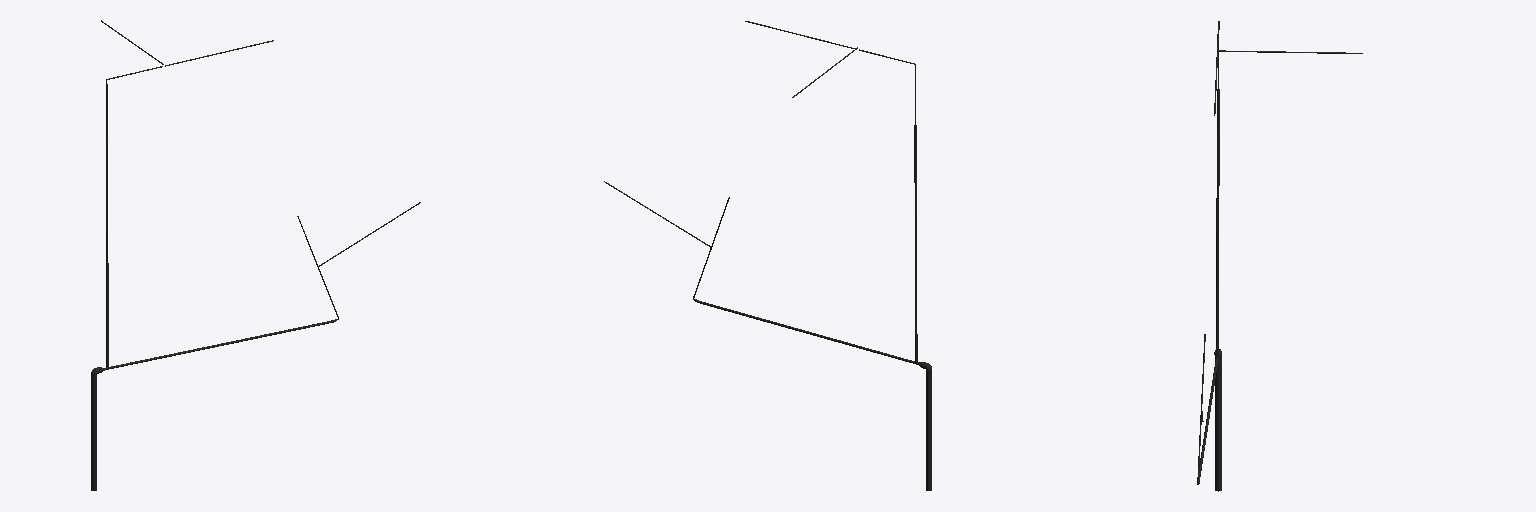
--- What the picture shows (computed from the rendered views, not written in the file) ---
3 views of the same robot in one strip: view 1: azimuth 30°, elevation 25°; view 2: azimuth 150°, elevation 25°; view 3: azimuth 270°, elevation 25° (orthographic).
Robot: Final_assembly_for_gazebo — 20 links, 19 joints (19 fixed); root link base_link; default pose: all joints at 0.
Links seen in each view (by area): view 1: base_link, link_4, link_5; view 2: base_link, link_4, link_5; view 3: base_link, link_5.
Link boxes in pixels (x1,y1,x2,y2): base_link: [91, 378, 96, 490]; link_4: [110, 320, 333, 368]; link_5: [106, 140, 108, 366]; base_link: [926, 373, 931, 490]; link_4: [698, 301, 913, 362]; link_5: [914, 127, 917, 360]; base_link: [1215, 358, 1221, 491]; link_5: [1216, 92, 1219, 355].
Size in the robot's own frame: 29.89 by 11.43 by 36.2 metres.
Meshes: 20 distinct files referenced, 19 mesh visuals loaded (19 binary STL); not drawn: 1 (reference not matched to a file when rendering).

The robot description file, URDF, robot "Final_assembly_for_gazebo":
<?xml version="1.0" encoding="utf-8"?>
<!-- This URDF was automatically created by SolidWorks to URDF Exporter! Originally created by Stephen Brawner ([email redacted]) 
     Commit Version: 1.6.0-4-g7f85cfe  Build Version: 1.6.7995.38578
     For more information, please see http://wiki.ros.org/sw_urdf_exporter -->
<robot
  name="Final_assembly_for_gazebo">
  <link
    name="base_link">
    <inertial>
      <origin
        xyz="0 -8.88178419700125E-16 5"
        rpy="0 0 0" />
      <mass
        value="227.099449742699" />
      <inertia
        ixx="1899.64927428884"
        ixy="-3.37445951098918E-30"
        ixz="-3.54987407349455E-29"
        iyy="1899.64927428884"
        iyz="-6.93984196648275E-29"
        izz="14.3077195326896" />
    </inertial>
    <visual>
      <origin
        xyz="0 0 0"
        rpy="0 0 0" />
      <geometry>
        <mesh
          filename="package://swimming_robot/world/meshes/base_link.STL" />
      </geometry>
      <material
        name="">
        <color
          rgba="0.2 0.2 0.2 0.1" />
      </material>
    </visual>
    <collision>
      <origin
        xyz="0 0 0"
        rpy="0 0 0" />
      <geometry>
        <mesh
          filename="package://swimming_robot/world/meshes/base_link_collision.STL" />
      </geometry>
    </collision>
  </link>
  <link
    name="link_1">
    <inertial>
      <origin
        xyz="0.110325131087151 -0.00712335240271322 0.391445141676856"
        rpy="0 0 0" />
      <mass
        value="10.156846659006" />
      <inertia
        ixx="0.79819759046928"
        ixy="0.0102997348580349"
        ixz="-0.155751894718721"
        iyy="0.957052908615804"
        iyz="0.0100564179941513"
        izz="0.79753256845368" />
    </inertial>
    <visual>
      <origin
        xyz="0 0 0"
        rpy="0 0 0" />
      <geometry>
        <mesh
          filename="package://swimming_robot/world/meshes/link_1.STL" />
      </geometry>
      <material
        name="">
        <color
          rgba="0.2 0.2 0.2 0.1" />
      </material>
    </visual>
    <collision>
      <origin
        xyz="0 0 0"
        rpy="0 0 0" />
      <geometry>
        <mesh
          filename="package://swimming_robot/world/meshes/link_1_collision.STL" />
      </geometry>
    </collision>
  </link>
  <joint
    name="500_turn"
    type="fixed">
    <origin
      xyz="0 0 10"
      rpy="0 0 0" />
    <parent
      link="base_link" />
    <child
      link="link_1" />
    <axis
      xyz="0 0 0" />
  </joint>
  <link
    name="link_2">
    <inertial>
      <origin
        xyz="0 1.24344978758018E-14 0.214770646277699"
        rpy="0 0 0" />
      <mass
        value="8.30369856273025" />
      <inertia
        ixx="0.314170071804714"
        ixy="1.91350586269761E-17"
        ixz="1.5559044756424E-15"
        iyy="0.31417007180472"
        iyz="6.53990750443256E-16"
        izz="0.303526806742906" />
    </inertial>
    <visual>
      <origin
        xyz="0 0 0"
        rpy="0 0 0" />
      <geometry>
        <mesh
          filename="package://swimming_robot/world/meshes/link_2.STL" />
      </geometry>
      <material
        name="">
        <color
          rgba="0.2 0.2 0.2 0.1" />
      </material>
    </visual>
    <collision>
      <origin
        xyz="0 0 0"
        rpy="0 0 0" />
      <geometry>
        <mesh
          filename="package://swimming_robot/world/meshes/link_2_collision.STL" />
      </geometry>
    </collision>
  </link>
  <joint
    name="500_to_200"
    type="fixed">
    <origin
      xyz="0.50096 -0.032345 0.502"
      rpy="-3.0771 1.5708 3.1416" />
    <parent
      link="link_1" />
    <child
      link="link_2" />
    <axis
      xyz="0 0 0" />
  </joint>
  <link
    name="link_3">
    <inertial>
      <origin
        xyz="-0.0263212332850991 7.95379828399945E-06 -0.000112465890046209"
        rpy="0 0 0" />
      <mass
        value="2.14612966719197" />
      <inertia
        ixx="0.0380463084604612"
        ixy="-2.307286573813E-06"
        ixz="3.57131864072001E-05"
        iyy="0.0433783495755942"
        iyz="0.000926679292320655"
        izz="0.029087801077149" />
    </inertial>
    <visual>
      <origin
        xyz="0 0 0"
        rpy="0 0 0" />
      <geometry>
        <mesh
          filename="package://swimming_robot/world/meshes/link_3.STL" />
      </geometry>
      <material
        name="">
        <color
          rgba="0.2 0.2 0.2 0.1" />
      </material>
    </visual>
    <collision>
      <origin
        xyz="0 0 0"
        rpy="0 0 0" />
      <geometry>
        <mesh
          filename="package://swimming_robot/world/meshes/link_3_collision.STL" />
      </geometry>
    </collision>
  </link>
  <joint
    name="3way_200"
    type="fixed">
    <origin
      xyz="0 0 0.7"
      rpy="-0.064494 0.0039682 -0.0041927" />
    <parent
      link="link_2" />
    <child
      link="link_3" />
    <axis
      xyz="0 0 0" />
  </joint>
  <link
    name="link_4">
    <inertial>
      <origin
        xyz="7.105427357601E-15 0 10"
        rpy="0 0 0" />
      <mass
        value="90.9302577655039" />
      <inertia
        ixx="3031.46781271762"
        ixy="-6.81812943432185E-15"
        ixz="5.59957050115959E-14"
        iyy="3031.46781271762"
        iyz="-1.32358360382945E-12"
        izz="0.918441068560446" />
    </inertial>
    <visual>
      <origin
        xyz="0 0 0"
        rpy="0 0 0" />
      <geometry>
        <mesh
          filename="package://swimming_robot/world/meshes/link_4.STL" />
      </geometry>
      <material
        name="">
        <color
          rgba="0.2 0.2 0.2 0.1" />
      </material>
    </visual>
    <collision>
      <origin
        xyz="0 0 0"
        rpy="0 0 0" />
      <geometry>
        <mesh
          filename="package://swimming_robot/world/meshes/link_4_collision.STL" />
      </geometry>
    </collision>
  </link>
  <joint
    name="200mm_s"
    type="fixed">
    <origin
      xyz="-0.00079365 -0.01289 0.19958"
      rpy="0.064477 -0.0042302 0.0039283" />
    <parent
      link="link_3" />
    <child
      link="link_4" />
    <axis
      xyz="0 0 0" />
  </joint>
  <link
    name="link_6">
    <inertial>
      <origin
        xyz="-3.74334648061136E-05 -2.91356843984403E-06 0.100008552439299"
        rpy="0 0 0" />
      <mass
        value="0.909235714674439" />
      <inertia
        ixx="0.00771494522311124"
        ixy="-5.81890916238897E-06"
        ixz="-0.000250497251026371"
        iyy="0.00762279221600413"
        iyz="1.57838215992843E-05"
        izz="0.00909308344301014" />
    </inertial>
    <visual>
      <origin
        xyz="0 0 0"
        rpy="0 0 0" />
      <geometry>
        <mesh
          filename="package://swimming_robot/world/meshes/link_6.STL" />
      </geometry>
      <material
        name="">
        <color
          rgba="0.2 0.2 0.2 0.1" />
      </material>
    </visual>
    <collision>
      <origin
        xyz="0 0 0"
        rpy="0 0 0" />
      <geometry>
        <mesh
          filename="package://swimming_robot/world/meshes/link_6_collision.STL" />
      </geometry>
    </collision>
  </link>
  <joint
    name="200mm_angle"
    type="fixed">
    <origin
      xyz="0 0 20"
      rpy="0 0 0" />
    <parent
      link="link_4" />
    <child
      link="link_6" />
    <axis
      xyz="0 0 0" />
  </joint>
  <link
    name="link_7">
    <inertial>
      <origin
        xyz="-1.36779476633819E-13 -5.77315972805081E-14 0.0893155658047462"
        rpy="0 0 0" />
      <mass
        value="0.769707679534599" />
      <inertia
        ixx="0.00525521266681794"
        ixy="2.98155597433514E-18"
        ixz="1.72279725207947E-16"
        iyy="0.00525521266681791"
        iyz="-1.64256629131554E-17"
        izz="0.00573202844765503" />
    </inertial>
    <visual>
      <origin
        xyz="0 0 0"
        rpy="0 0 0" />
      <geometry>
        <mesh
          filename="package://swimming_robot/world/meshes/link_7.STL" />
      </geometry>
      <material
        name="">
        <color
          rgba="0.2 0.2 0.2 0.1" />
      </material>
    </visual>
    <collision>
      <origin
        xyz="0 0 0"
        rpy="0 0 0" />
      <geometry>
        <mesh
          filename="package://swimming_robot/world/meshes/link_7_collision.STL" />
      </geometry>
    </collision>
  </link>
  <joint
    name="200_to_100_s"
    type="fixed">
    <origin
      xyz="-0.034134 0.0021513 0.19397"
      rpy="-0.068018 -0.34264 0.13711" />
    <parent
      link="link_6" />
    <child
      link="link_7" />
    <axis
      xyz="0 0 0" />
  </joint>
  <link
    name="link_8">
    <inertial>
      <origin
        xyz="-0.0225472719811091 0.00108982796349455 0.080426404832739"
        rpy="0 0 0" />
      <mass
        value="0.416043746296635" />
      <inertia
        ixx="0.00133576509035691"
        ixy="1.32133184154736E-05"
        ixz="0.000264530112278994"
        iyy="0.00160849459875086"
        iyz="-1.27861283533507E-05"
        izz="0.00133512642134575" />
    </inertial>
    <visual>
      <origin
        xyz="0 0 0"
        rpy="0 0 0" />
      <geometry>
        <mesh
          filename="package://swimming_robot/world/meshes/link_8.STL" />
      </geometry>
      <material
        name="">
        <color
          rgba="0.2 0.2 0.2 0.1" />
      </material>
    </visual>
    <collision>
      <origin
        xyz="0 0 0"
        rpy="0 0 0" />
      <geometry>
        <mesh
          filename="package://swimming_robot/world/meshes/link_8_collision.STL" />
      </geometry>
    </collision>
  </link>
  <joint
    name="100_turn_s"
    type="fixed">
    <origin
      xyz="0 0 0.199"
      rpy="0 0 -0.10711" />
    <parent
      link="link_7" />
    <child
      link="link_8" />
    <axis
      xyz="0 0 0" />
  </joint>
  <link
    name="link_9">
    <inertial>
      <origin
        xyz="0 5.77315972805081E-15 2.5"
        rpy="0 0 0" />
      <mass
        value="11.4228308884526" />
      <inertia
        ixx="23.8121313160335"
        ixy="1.69309011255336E-15"
        ixz="2.06579545136698E-14"
        iyy="23.8121313160335"
        iyz="5.12025317978004E-15"
        izz="0.0291339301809244" />
    </inertial>
    <visual>
      <origin
        xyz="0 0 0"
        rpy="0 0 0" />
      <geometry>
        <mesh
          filename="package://swimming_robot/world/meshes/link_9.STL" />
      </geometry>
      <material
        name="">
        <color
          rgba="0.2 0.2 0.2 0.1" />
      </material>
    </visual>
    <collision>
      <origin
        xyz="0 0 0"
        rpy="0 0 0" />
      <geometry>
        <mesh
          filename="package://swimming_robot/world/meshes/link_9_collision.STL" />
      </geometry>
    </collision>
  </link>
  <joint
    name="100mm_s"
    type="fixed">
    <origin
      xyz="-0.10188 0.0049244 0.103"
      rpy="-1.5708 -1.5317 1.5225" />
    <parent
      link="link_8" />
    <child
      link="link_9" />
    <axis
      xyz="0 0 0" />
  </joint>
  <link
    name="link_10">
    <inertial>
      <origin
        xyz="0.0322743224664741 0.000283167158605213 8.23481656198055E-06"
        rpy="0 0 0" />
      <mass
        value="0.633642304139999" />
      <inertia
        ixx="0.00263675532929599"
        ixy="-1.20252475491983E-05"
        ixz="1.38747647852704E-07"
        iyy="0.00403472009265456"
        iyz="-2.56062401303951E-07"
        izz="0.00317033552043691" />
    </inertial>
    <visual>
      <origin
        xyz="0 0 0"
        rpy="0 0 0" />
      <geometry>
        <mesh
          filename="package://swimming_robot/world/meshes/link_10.STL" />
      </geometry>
      <material
        name="">
        <color
          rgba="0.2 0.2 0.2 0.1" />
      </material>
    </visual>
    <collision>
      <origin
        xyz="0 0 0"
        rpy="0 0 0" />
      <geometry>
        <mesh
          filename="package://swimming_robot/world/meshes/link_10_collision.STL" />
      </geometry>
    </collision>
  </link>
  <joint
    name="100mm_3way_s"
    type="fixed">
    <origin
      xyz="0 0 5.1"
      rpy="0 0 0" />
    <parent
      link="link_9" />
    <child
      link="link_10" />
    <axis
      xyz="0 0 0" />
  </joint>
  <link
    name="link_11">
    <inertial>
      <origin
        xyz="-5.32907051820075E-15 -2.66453525910038E-15 4.99999999999996"
        rpy="0 0 0" />
      <mass
        value="22.845661776905" />
      <inertia
        ixx="190.409648737723"
        ixy="-5.6621374255883E-15"
        ixz="5.06915689979515E-13"
        iyy="190.409648737723"
        iyz="1.74275843051446E-14"
        izz="0.0582678603616214" />
    </inertial>
    <visual>
      <origin
        xyz="0 0 0"
        rpy="0 0 0" />
      <geometry>
        <mesh
          filename="package://swimming_robot/world/meshes/link_11.STL" />
      </geometry>
      <material
        name="">
        <color
          rgba="0.2 0.2 0.2 0.1" />
      </material>
    </visual>
    <collision>
      <origin
        xyz="0 0 0"
        rpy="0 0 0" />
      <geometry>
        <mesh
          filename="package://swimming_robot/world/meshes/link_11_collision.STL" />
      </geometry>
    </collision>
  </link>
  <joint
    name="100mm_s_r"
    type="fixed">
    <origin
      xyz="0.14999 0.001268 0"
      rpy="1.5708 1.5225 1.5792" />
    <parent
      link="link_10" />
    <child
      link="link_11" />
    <axis
      xyz="0 0 0" />
  </joint>
  <link
    name="link_12">
    <inertial>
      <origin
        xyz="5.32907051820075E-14 -3.10862446895044E-15 2.49999999999989"
        rpy="0 0 0" />
      <mass
        value="11.4228308884525" />
      <inertia
        ixx="23.812131316033"
        ixy="-1.02695629777827E-15"
        ixz="-5.44278164205103E-14"
        iyy="23.812131316033"
        iyz="5.43510549066983E-16"
        izz="0.029133930180953" />
    </inertial>
    <visual>
      <origin
        xyz="0 0 0"
        rpy="0 0 0" />
      <geometry>
        <mesh
          filename="package://swimming_robot/world/meshes/link_12.STL" />
      </geometry>
      <material
        name="">
        <color
          rgba="0.2 0.2 0.2 0.1" />
      </material>
    </visual>
    <collision>
      <origin
        xyz="0 0 0"
        rpy="0 0 0" />
      <geometry>
        <mesh
          filename="package://swimming_robot/world/meshes/link_12_collision.STL" />
      </geometry>
    </collision>
  </link>
  <joint
    name="100mm_s_s"
    type="fixed">
    <origin
      xyz="0 0 0.1"
      rpy="0 0 0" />
    <parent
      link="link_10" />
    <child
      link="link_12" />
    <axis
      xyz="0 0 0" />
  </joint>
  <link
    name="link_5">
    <inertial>
      <origin
        xyz="-0.000792770424639322 5.11862838195043E-05 9.9998059910218"
        rpy="0 0 0" />
      <mass
        value="90.9302577655039" />
      <inertia
        ixx="3031.46781271784"
        ixy="-4.67074295906755E-16"
        ixz="7.76058362537968E-15"
        iyy="3031.46781271784"
        iyz="-3.53022732574315E-14"
        izz="0.918441068560457" />
    </inertial>
    <visual>
      <origin
        xyz="0 0 0"
        rpy="0 0 0" />
      <geometry>
        <mesh
          filename="package://swimming_robot/world/meshes/link_5.STL" />
      </geometry>
      <material
        name="">
        <color
          rgba="0.2 0.2 0.2 0.1" />
      </material>
    </visual>
    <collision>
      <origin
        xyz="0 0 0"
        rpy="0 0 0" />
      <geometry>
        <mesh
          filename="package://swimming_robot/world/meshes/link_5_collision.STL" />
      </geometry>
    </collision>
  </link>
  <joint
    name="200mm_l"
    type="fixed">
    <origin
      xyz="-0.2002 0 0"
      rpy="3.1371 -1.5668 -3.1374" />
    <parent
      link="link_3" />
    <child
      link="link_5" />
    <axis
      xyz="0 0 0" />
  </joint>
  <link
    name="link_13">
    <inertial>
      <origin
        xyz="7.105427357601E-15 -7.105427357601E-15 0.0893155658047604"
        rpy="0 0 0" />
      <mass
        value="0.769707679534585" />
      <inertia
        ixx="0.00525521266681814"
        ixy="2.5090024141985E-17"
        ixz="-1.17948596751332E-16"
        iyy="0.00525521266681821"
        iyz="9.73596610233038E-17"
        izz="0.00573202844765462" />
    </inertial>
    <visual>
      <origin
        xyz="0 0 0"
        rpy="0 0 0" />
      <geometry>
        <mesh
          filename="package://swimming_robot/world/meshes/link_13.STL" />
      </geometry>
      <material
        name="">
        <color
          rgba="0.2 0.2 0.2 0.1" />
      </material>
    </visual>
    <collision>
      <origin
        xyz="0 0 0"
        rpy="0 0 0" />
      <geometry>
        <mesh
          filename="package://swimming_robot/world/meshes/link_13_collision.STL" />
      </geometry>
    </collision>
  </link>
  <joint
    name="200_to_100"
    type="fixed">
    <origin
      xyz="-0.00079277 5.1186E-05 20"
      rpy="0 0 0" />
    <parent
      link="link_5" />
    <child
      link="link_13" />
    <axis
      xyz="0 0 0" />
  </joint>
  <link
    name="link_14">
    <inertial>
      <origin
        xyz="8.88178419700125E-16 0 2.50100000000003"
        rpy="0 0 0" />
      <mass
        value="11.4228308884524" />
      <inertia
        ixx="23.8121313160333"
        ixy="-3.60158409172529E-18"
        ixz="-1.18774686808966E-15"
        iyy="23.8121313160333"
        iyz="-8.08265943324366E-16"
        izz="0.0291339301809979" />
    </inertial>
    <visual>
      <origin
        xyz="0 0 0"
        rpy="0 0 0" />
      <geometry>
        <mesh
          filename="package://swimming_robot/world/meshes/link_14.STL" />
      </geometry>
      <material
        name="">
        <color
          rgba="0.2 0.2 0.2 0.1" />
      </material>
    </visual>
    <collision>
      <origin
        xyz="0 0 0"
        rpy="0 0 0" />
      <geometry>
        <mesh
          filename="package://swimming_robot/world/meshes/link_14_collision.STL" />
      </geometry>
    </collision>
  </link>
  <joint
    name="100_l"
    type="fixed">
    <origin
      xyz="0 0 0.199"
      rpy="0 0 0" />
    <parent
      link="link_13" />
    <child
      link="link_14" />
    <axis
      xyz="0 0 0" />
  </joint>
  <link
    name="link_15">
    <inertial>
      <origin
        xyz="0.0225697913218896 -0.000414389231454315 0.0794264048327733"
        rpy="0 0 0" />
      <mass
        value="0.416043746296427" />
      <inertia
        ixx="0.00133521875858108"
        ixy="5.02916580726418E-06"
        ixz="-0.000264794314703489"
        iyy="0.00160904093052482"
        iyz="4.86171585963675E-06"
        izz="0.00133512642134501" />
    </inertial>
    <visual>
      <origin
        xyz="0 0 0"
        rpy="0 0 0" />
      <geometry>
        <mesh
          filename="package://swimming_robot/world/meshes/link_15.STL" />
      </geometry>
      <material
        name="">
        <color
          rgba="0.2 0.2 0.2 0.1" />
      </material>
    </visual>
    <collision>
      <origin
        xyz="0 0 0"
        rpy="0 0 0" />
      <geometry>
        <mesh
          filename="package://swimming_robot/world/meshes/link_15_collision.STL" />
      </geometry>
    </collision>
  </link>
  <joint
    name="100_turn"
    type="fixed">
    <origin
      xyz="0 0 5.001"
      rpy="0 0 0" />
    <parent
      link="link_14" />
    <child
      link="link_15" />
    <axis
      xyz="0 0 0" />
  </joint>
  <link
    name="link_16">
    <inertial>
      <origin
        xyz="0 -8.88178419700125E-16 2.50000000000001"
        rpy="0 0 0" />
      <mass
        value="11.4228308884525" />
      <inertia
        ixx="23.8121313160341"
        ixy="-4.81792340398246E-18"
        ixz="4.59565518235935E-15"
        iyy="23.8121313160341"
        iyz="-8.87926903167241E-15"
        izz="0.0291339301809983" />
    </inertial>
    <visual>
      <origin
        xyz="0 0 0"
        rpy="0 0 0" />
      <geometry>
        <mesh
          filename="package://swimming_robot/world/meshes/link_16.STL" />
      </geometry>
      <material
        name="">
        <color
          rgba="0.2 0.2 0.2 0.1" />
      </material>
    </visual>
    <collision>
      <origin
        xyz="0 0 0"
        rpy="0 0 0" />
      <geometry>
        <mesh
          filename="package://swimming_robot/world/meshes/link_16_collision.STL" />
      </geometry>
    </collision>
  </link>
  <joint
    name="100mm_l_1"
    type="fixed">
    <origin
      xyz="0.10198 -0.0018724 0.102"
      rpy="1.5708 1.5666 1.5524" />
    <parent
      link="link_15" />
    <child
      link="link_16" />
    <axis
      xyz="0 0 0" />
  </joint>
  <link
    name="link_17">
    <inertial>
      <origin
        xyz="-0.0322755313206642 -8.84451978322431E-09 -4.41556609942495E-07"
        rpy="0 0 0" />
      <mass
        value="0.633661310739336" />
      <inertia
        ixx="0.00263665918285533"
        ixy="8.601975749112E-09"
        ixz="1.14955651914931E-10"
        iyy="0.00403501496627989"
        iyz="1.58774107337185E-05"
        izz="0.00317046998632458" />
    </inertial>
    <visual>
      <origin
        xyz="0 0 0"
        rpy="0 0 0" />
      <geometry>
        <mesh
          filename="package://swimming_robot/world/meshes/link_17.STL" />
      </geometry>
      <material
        name="">
        <color
          rgba="0.2 0.2 0.2 0.1" />
      </material>
    </visual>
    <collision>
      <origin
        xyz="0 0 0"
        rpy="0 0 0" />
      <geometry>
        <mesh
          filename="package://swimming_robot/world/meshes/link_17_collision.STL" />
      </geometry>
    </collision>
  </link>
  <joint
    name="3way_100_l"
    type="fixed">
    <origin
      xyz="0 0 5.1"
      rpy="-0.018362 0 -0.018356" />
    <parent
      link="link_16" />
    <child
      link="link_17" />
    <axis
      xyz="0 0 0" />
  </joint>
  <link
    name="link_18">
    <inertial>
      <origin
        xyz="0 8.88178419700125E-16 5"
        rpy="0 0 0" />
      <mass
        value="22.845661776905" />
      <inertia
        ixx="190.409648737725"
        ixy="1.00288700954909E-17"
        ixz="3.67481957678443E-14"
        iyy="190.409648737725"
        iyz="-5.04707457558763E-14"
        izz="0.0582678603619978" />
    </inertial>
    <visual>
      <origin
        xyz="0 0 0"
        rpy="0 0 0" />
      <geometry>
        <mesh
          filename="package://swimming_robot/world/meshes/link_18.STL" />
      </geometry>
      <material
        name="">
        <color
          rgba="0.2 0.2 0.2 0.1" />
      </material>
    </visual>
    <collision>
      <origin
        xyz="0 0 0"
        rpy="0 0 0" />
      <geometry>
        <mesh
          filename="package://swimming_robot/world/meshes/link_18_collision.STL" />
      </geometry>
    </collision>
  </link>
  <joint
    name="100mm_l_s"
    type="fixed">
    <origin
      xyz="0 -0.0018361 0.099983"
      rpy="0.018359 -0.00033702 0.018353" />
    <parent
      link="link_17" />
    <child
      link="link_18" />
    <axis
      xyz="0 0 0" />
  </joint>
  <link
    name="link_19">
    <inertial>
      <origin
        xyz="5.32907051820075E-15 8.88178419700125E-16 4.99999999999996"
        rpy="0 0 0" />
      <mass
        value="22.8456617769052" />
      <inertia
        ixx="190.409648737729"
        ixy="-9.9855020085915E-17"
        ixz="1.42877822474716E-14"
        iyy="190.409648737729"
        iyz="8.85620786775232E-14"
        izz="0.0582678603619981" />
    </inertial>
    <visual>
      <origin
        xyz="0 0 0"
        rpy="0 0 0" />
      <geometry>
        <mesh
          filename="package://swimming_robot/world/meshes/link_19.STL" />
      </geometry>
      <material
        name="">
        <color
          rgba="0.2 0.2 0.2 0.1" />
      </material>
    </visual>
    <collision>
      <origin
        xyz="0 0 0"
        rpy="0 0 0" />
      <geometry>
        <mesh
          filename="package://swimming_robot/world/meshes/link_19_collision.STL" />
      </geometry>
    </collision>
  </link>
  <joint
    name="100mm_l_l"
    type="fixed">
    <origin
      xyz="-0.15 0 0"
      rpy="3.1416 -1.5708 1.5708" />
    <parent
      link="link_17" />
    <child
      link="link_19" />
    <axis
      xyz="0 0 0" />
  </joint>
</robot>
